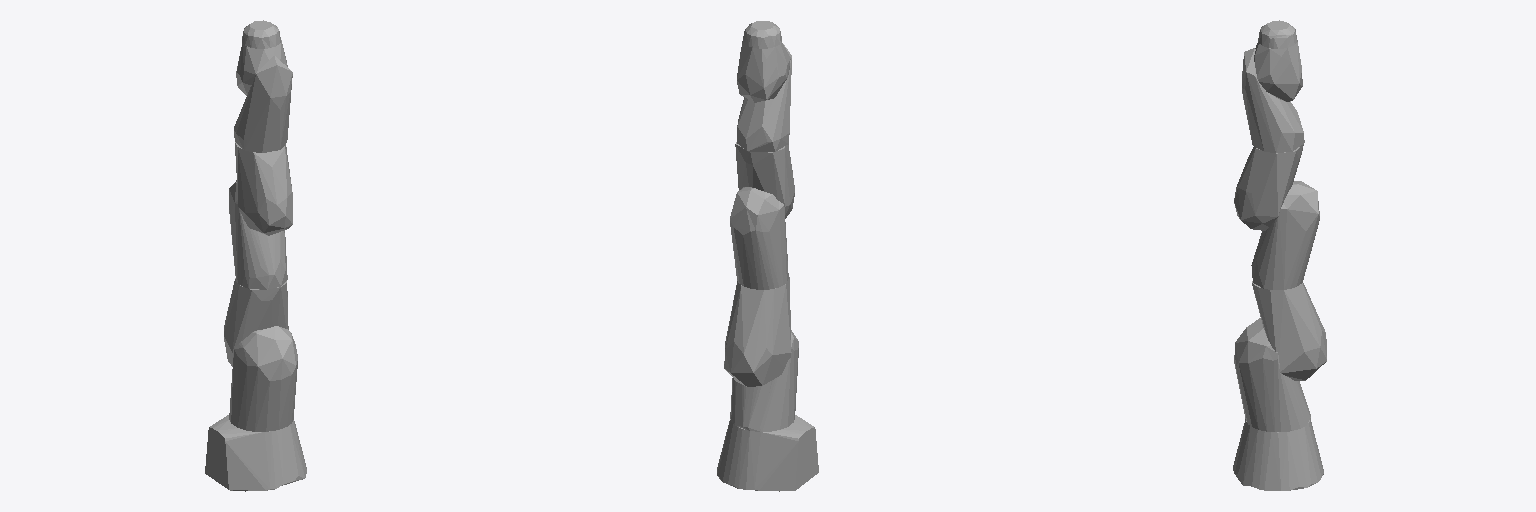
robot.urdf — iiwa:
<?xml version="1.0" encoding="utf-8"?>
<robot name="iiwa">
  <material name="Grey">
    <color rgba="0.7 0.7 0.7 1.0"/>
  </material>
  <link name="world"/>
  <joint name="world_to_iiwa" type="fixed">
    <origin rpy="0 0 0" xyz="0 0 0"/>
    <parent link="world"/>
    <child link="iiwa_link_0"/>
  </joint>
  <link name="iiwa_link_0">
    <inertial>
      <origin rpy="0 0 0" xyz="-0.1 0 0.07"/>
      <mass value="5"/>
      <inertia ixx="0.05" ixy="0" ixz="0" iyy="0.06" iyz="0" izz="0.03"/>
    </inertial>
    <visual>
      <origin rpy="0 0 0" xyz="0 0 0"/>
      <geometry>
        <mesh filename="package://robots_description/meshes/iiwa/visual/link_0.stl"/>
      </geometry>
      <material name="Grey"/>
    </visual>
    <collision>
      <origin rpy="0 0 0" xyz="0 0 0"/>
      <geometry>
        <mesh filename="package://robots_description/meshes/iiwa/visual/link_0.stl"/>
      </geometry>
      <material name="Grey"/>
    </collision>
  </link>
  <joint name="iiwa_joint_1" type="revolute">
    <parent link="iiwa_link_0"/>
    <child link="iiwa_link_1"/>
    <origin rpy="0 0 0" xyz="0 0 0.1575"/>
    <axis xyz="0 0 1"/>
    <limit effort="300" lower="-2.96705972839" upper="2.96705972839" velocity="1.4835298642"/>
    <dynamics damping="20"/>
  </joint>
  <link name="iiwa_link_1">
    <inertial>
      <origin rpy="0 0 0" xyz="0 -0.03 0.12"/>
      <mass value="4"/>
      <inertia ixx="0.1" ixy="0" ixz="0" iyy="0.09" iyz="0" izz="0.02"/>
    </inertial>
    <visual>
      <origin rpy="0 0 0" xyz="0 0 0"/>
      <geometry>
        <mesh filename="package://robots_description/meshes/iiwa/visual/link_1.stl"/>
      </geometry>
      <material name="Grey"/>
    </visual>
    <collision>
      <origin rpy="0 0 0" xyz="0 0 0"/>
      <geometry>
        <mesh filename="package://robots_description/meshes/iiwa/visual/link_1.stl"/>
      </geometry>
      <material name="Grey"/>
    </collision>
  </link>
  <joint name="iiwa_joint_2" type="revolute">
    <parent link="iiwa_link_1"/>
    <child link="iiwa_link_2"/>
    <origin rpy="1.5707963268   0 3.14159265359" xyz="0 0 0.2025"/>
    <axis xyz="0 0 1"/>
    <limit effort="300" lower="-2.09439510239" upper="2.09439510239" velocity="1.4835298642"/>
    <dynamics damping="20"/>
  </joint>
  <link name="iiwa_link_2">
    <inertial>
      <origin rpy="0 0 0" xyz="0.0003 0.059 0.042"/>
      <mass value="4"/>
      <inertia ixx="0.05" ixy="0" ixz="0" iyy="0.018" iyz="0" izz="0.044"/>
    </inertial>
    <visual>
      <origin rpy="0 0 0" xyz="0 0 0"/>
      <geometry>
        <mesh filename="package://robots_description/meshes/iiwa/visual/link_2.stl"/>
      </geometry>
      <material name="Grey"/>
    </visual>
    <collision>
      <origin rpy="0 0 0" xyz="0 0 0"/>
      <geometry>
        <mesh filename="package://robots_description/meshes/iiwa/visual/link_2.stl"/>
      </geometry>
      <material name="Grey"/>
    </collision>
  </link>
  <joint name="iiwa_joint_3" type="revolute">
    <parent link="iiwa_link_2"/>
    <child link="iiwa_link_3"/>
    <origin rpy="1.5707963268 0 3.14159265359" xyz="0 0.2045 0"/>
    <axis xyz="0 0 1"/>
    <limit effort="300" lower="-2.96705972839" upper="2.96705972839" velocity="1.74532925199"/>
    <dynamics damping="20"/>
  </joint>
  <link name="iiwa_link_3">
    <inertial>
      <origin rpy="0 0 0" xyz="0 0.03 0.13"/>
      <mass value="3"/>
      <inertia ixx="0.08" ixy="0" ixz="0" iyy="0.075" iyz="0" izz="0.01"/>
    </inertial>
    <visual>
      <origin rpy="0 0 0" xyz="0 0 0"/>
      <geometry>
        <mesh filename="package://robots_description/meshes/iiwa/visual/link_3.stl"/>
      </geometry>
      <material name="Grey"/>
    </visual>
    <collision>
      <origin rpy="0 0 0" xyz="0 0 0"/>
      <geometry>
        <mesh filename="package://robots_description/meshes/iiwa/visual/link_3.stl"/>
      </geometry>
      <material name="Grey"/>
    </collision>
  </link>
  <joint name="iiwa_joint_4" type="revolute">
    <parent link="iiwa_link_3"/>
    <child link="iiwa_link_4"/>
    <origin rpy="1.5707963268 0 0" xyz="0 0 0.2155"/>
    <axis xyz="0 0 1"/>
    <limit effort="300" lower="-2.09439510239" upper="2.09439510239" velocity="1.308996939"/>
    <dynamics damping="20"/>
  </joint>
  <link name="iiwa_link_4">
    <inertial>
      <origin rpy="0 0 0" xyz="0 0.067 0.034"/>
      <mass value="2.7"/>
      <inertia ixx="0.03" ixy="0" ixz="0" iyy="0.01" iyz="0" izz="0.029"/>
    </inertial>
    <visual>
      <origin rpy="0 0 0" xyz="0 0 0"/>
      <geometry>
        <mesh filename="package://robots_description/meshes/iiwa/visual/link_4.stl"/>
      </geometry>
      <material name="Grey"/>
    </visual>
    <collision>
      <origin rpy="0 0 0" xyz="0 0 0"/>
      <geometry>
        <mesh filename="package://robots_description/meshes/iiwa/visual/link_4.stl"/>
      </geometry>
      <material name="Grey"/>
    </collision>
  </link>
  <joint name="iiwa_joint_5" type="revolute">
    <parent link="iiwa_link_4"/>
    <child link="iiwa_link_5"/>
    <origin rpy="-1.5707963268 3.14159265359 0" xyz="0 0.1845 0"/>
    <axis xyz="0 0 1"/>
    <limit effort="300" lower="-2.96705972839" upper="2.96705972839" velocity="2.26892802759"/>
    <dynamics damping="20"/>
  </joint>
  <link name="iiwa_link_5">
    <inertial>
      <origin rpy="0 0 0" xyz="0.0001 0.021 0.076"/>
      <mass value="1.7"/>
      <inertia ixx="0.02" ixy="0" ixz="0" iyy="0.018" iyz="0" izz="0.005"/>
    </inertial>
    <visual>
      <origin rpy="0 0 0" xyz="0 0 0"/>
      <geometry>
        <mesh filename="package://robots_description/meshes/iiwa/visual/link_5.stl"/>
      </geometry>
      <material name="Grey"/>
    </visual>
    <collision>
      <origin rpy="0 0 0" xyz="0 0 0"/>
      <geometry>
        <mesh filename="package://robots_description/meshes/iiwa/visual/link_5.stl"/>
      </geometry>
      <material name="Grey"/>
    </collision>
  </link>
  <joint name="iiwa_joint_6" type="revolute">
    <parent link="iiwa_link_5"/>
    <child link="iiwa_link_6"/>
    <origin rpy="1.5707963268 0 0" xyz="0 0 0.2155"/>
    <axis xyz="0 0 1"/>
    <limit effort="300" lower="-2.09439510239" upper="2.09439510239" velocity="2.35619449019"/>
    <dynamics damping="20"/>
  </joint>
  <link name="iiwa_link_6">
    <inertial>
      <origin rpy="0 0 0" xyz="0 0.0006 0.0004"/>
      <mass value="1.8"/>
      <inertia ixx="0.005" ixy="0" ixz="0" iyy="0.0036" iyz="0" izz="0.0047"/>
    </inertial>
    <visual>
      <origin rpy="0 0 0" xyz="0 0 0"/>
      <geometry>
        <mesh filename="package://robots_description/meshes/iiwa/visual/link_6.stl"/>
      </geometry>
      <material name="Grey"/>
    </visual>
    <collision>
      <origin rpy="0 0 0" xyz="0 0 0"/>
      <geometry>
        <mesh filename="package://robots_description/meshes/iiwa/visual/link_6.stl"/>
      </geometry>
      <material name="Grey"/>
    </collision>
  </link>
  <joint name="iiwa_joint_7" type="revolute">
    <parent link="iiwa_link_6"/>
    <child link="iiwa_link_7"/>
    <origin rpy="-1.5707963268 3.14159265359 0" xyz="0 0.081 0"/>
    <axis xyz="0 0 1"/>
    <limit effort="300" lower="-3.05432619099" upper="3.05432619099" velocity="2.35619449019"/>
    <dynamics damping="20"/>
  </joint>
  <link name="iiwa_link_7">
    <inertial>
      <origin rpy="0 0 0" xyz="0 0 0.02"/>
      <mass value="0.3"/>
      <inertia ixx="0.001" ixy="0" ixz="0" iyy="0.001" iyz="0" izz="0.001"/>
    </inertial>
    <visual>
      <origin rpy="0 0 0" xyz="0 0 0"/>
      <geometry>
        <mesh filename="package://robots_description/meshes/iiwa/visual/link_7.stl"/>
      </geometry>
      <material name="Grey"/>
    </visual>
    <collision>
      <origin rpy="0 0 0" xyz="0 0 0"/>
      <geometry>
        <mesh filename="package://robots_description/meshes/iiwa/visual/link_7.stl"/>
      </geometry>
      <material name="Grey"/>
    </collision>
  </link>
  <joint name="iiwa_joint_ee" type="fixed">
    <parent link="iiwa_link_7"/>
    <child link="iiwa_link_ee"/>
    <origin rpy="0 0 0" xyz="0 0 0.045"/>
  </joint>
  <link name="iiwa_link_ee"/>
  <transmission name="iiwa_trans_1">
    <type>transmission_interface/SimpleTransmission</type>
    <joint name="iiwa_joint_1">
      <hardwareInterface>hardware_interface/EffortJointInterface</hardwareInterface>
    </joint>
    <actuator name="iiwa_motor_1">
      <hardwareInterface>hardware_interface/EffortJointInterface</hardwareInterface>
      <mechanicalReduction>1</mechanicalReduction>
    </actuator>
  </transmission>
  <transmission name="iiwa_trans_2">
    <type>transmission_interface/SimpleTransmission</type>
    <joint name="iiwa_joint_2">
      <hardwareInterface>hardware_interface/EffortJointInterface</hardwareInterface>
    </joint>
    <actuator name="iiwa_motor_2">
      <hardwareInterface>hardware_interface/EffortJointInterface</hardwareInterface>
      <mechanicalReduction>1</mechanicalReduction>
    </actuator>
  </transmission>
  <transmission name="iiwa_trans_3">
    <type>transmission_interface/SimpleTransmission</type>
    <joint name="iiwa_joint_3">
      <hardwareInterface>hardware_interface/EffortJointInterface</hardwareInterface>
    </joint>
    <actuator name="iiwa_motor_3">
      <hardwareInterface>hardware_interface/EffortJointInterface</hardwareInterface>
      <mechanicalReduction>1</mechanicalReduction>
    </actuator>
  </transmission>
  <transmission name="iiwa_trans_4">
    <type>transmission_interface/SimpleTransmission</type>
    <joint name="iiwa_joint_4">
      <hardwareInterface>hardware_interface/EffortJointInterface</hardwareInterface>
    </joint>
    <actuator name="iiwa_motor_4">
      <hardwareInterface>hardware_interface/EffortJointInterface</hardwareInterface>
      <mechanicalReduction>1</mechanicalReduction>
    </actuator>
  </transmission>
  <transmission name="iiwa_trans_5">
    <type>transmission_interface/SimpleTransmission</type>
    <joint name="iiwa_joint_5">
      <hardwareInterface>hardware_interface/EffortJointInterface</hardwareInterface>
    </joint>
    <actuator name="iiwa_motor_5">
      <hardwareInterface>hardware_interface/EffortJointInterface</hardwareInterface>
      <mechanicalReduction>1</mechanicalReduction>
    </actuator>
  </transmission>
  <transmission name="iiwa_trans_6">
    <type>transmission_interface/SimpleTransmission</type>
    <joint name="iiwa_joint_6">
      <hardwareInterface>hardware_interface/EffortJointInterface</hardwareInterface>
    </joint>
    <actuator name="iiwa_motor_6">
      <hardwareInterface>hardware_interface/EffortJointInterface</hardwareInterface>
      <mechanicalReduction>1</mechanicalReduction>
    </actuator>
  </transmission>
  <transmission name="iiwa_trans_7">
    <type>transmission_interface/SimpleTransmission</type>
    <joint name="iiwa_joint_7">
      <hardwareInterface>hardware_interface/EffortJointInterface</hardwareInterface>
    </joint>
    <actuator name="iiwa_motor_7">
      <hardwareInterface>hardware_interface/EffortJointInterface</hardwareInterface>
      <mechanicalReduction>1</mechanicalReduction>
    </actuator>
  </transmission>
  <gazebo reference="iiwa_link_0">
    <material>Gazebo/Grey</material>
    <mu1>0.2</mu1>
    <mu2>0.2</mu2>
  </gazebo>
  <gazebo reference="iiwa_link_1">
    <material>Gazebo/Grey</material>
    <mu1>0.2</mu1>
    <mu2>0.2</mu2>
  </gazebo>
  <gazebo reference="iiwa_link_2">
    <material>Gazebo/Grey</material>
    <mu1>0.2</mu1>
    <mu2>0.2</mu2>
  </gazebo>
  <gazebo reference="iiwa_link_3">
    <material>Gazebo/Grey</material>
    <mu1>0.2</mu1>
    <mu2>0.2</mu2>
  </gazebo>
  <gazebo reference="iiwa_link_4">
    <material>Gazebo/Grey</material>
    <mu1>0.2</mu1>
    <mu2>0.2</mu2>
  </gazebo>
  <gazebo reference="iiwa_link_5">
    <material>Gazebo/Grey</material>
    <mu1>0.2</mu1>
    <mu2>0.2</mu2>
  </gazebo>
  <gazebo reference="iiwa_link_6">
    <material>Gazebo/Grey</material>
    <mu1>0.2</mu1>
    <mu2>0.2</mu2>
  </gazebo>
  <gazebo reference="iiwa_link_7">
    <material>Gazebo/Grey</material>
    <mu1>0.2</mu1>
    <mu2>0.2</mu2>
  </gazebo>
</robot>

--- Facts derived from the render (not from the file) ---
Views: 3 orthographic renders of the robot side by side, from view 1: azimuth 30°, elevation 25°; view 2: azimuth 150°, elevation 25°; view 3: azimuth 270°, elevation 25°.
Robot: iiwa — 10 links, 9 joints (7 revolute, 2 fixed); root link world; default pose: all joints at 0.
Visible links, largest first — view 1: iiwa_link_1, iiwa_link_0, iiwa_link_4, iiwa_link_5, iiwa_link_3, iiwa_link_2, iiwa_link_6, iiwa_link_7; view 2: iiwa_link_0, iiwa_link_2, iiwa_link_3, iiwa_link_1, iiwa_link_5, iiwa_link_4, iiwa_link_6, iiwa_link_7; view 3: iiwa_link_1, iiwa_link_0, iiwa_link_3, iiwa_link_2, iiwa_link_4, iiwa_link_5, iiwa_link_6, iiwa_link_7.
Boxes of the visible links, x1=… form: iiwa_link_1: x1=229, y1=326, x2=297, y2=431; iiwa_link_0: x1=205, y1=415, x2=306, y2=491; iiwa_link_4: x1=235, y1=142, x2=292, y2=235; iiwa_link_5: x1=234, y1=56, x2=292, y2=152; iiwa_link_3: x1=229, y1=180, x2=287, y2=289; iiwa_link_2: x1=224, y1=278, x2=288, y2=366; iiwa_link_6: x1=236, y1=40, x2=287, y2=95; iiwa_link_7: x1=242, y1=20, x2=280, y2=48; iiwa_link_0: x1=717, y1=415, x2=818, y2=491; iiwa_link_2: x1=724, y1=277, x2=791, y2=386; iiwa_link_3: x1=730, y1=187, x2=788, y2=289; iiwa_link_1: x1=730, y1=330, x2=798, y2=431; iiwa_link_5: x1=737, y1=44, x2=791, y2=151; iiwa_link_4: x1=735, y1=142, x2=794, y2=218; iiwa_link_6: x1=737, y1=41, x2=790, y2=102; iiwa_link_7: x1=743, y1=21, x2=781, y2=48; iiwa_link_1: x1=1234, y1=318, x2=1310, y2=431; iiwa_link_0: x1=1233, y1=418, x2=1323, y2=490; iiwa_link_3: x1=1251, y1=181, x2=1319, y2=289; iiwa_link_2: x1=1252, y1=281, x2=1326, y2=380; iiwa_link_4: x1=1234, y1=144, x2=1303, y2=230; iiwa_link_5: x1=1242, y1=48, x2=1304, y2=152; iiwa_link_6: x1=1254, y1=42, x2=1302, y2=101; iiwa_link_7: x1=1258, y1=20, x2=1297, y2=48.
Size in the robot's own frame: 0.2578 by 0.2509 by 1.31 metres.
8 mesh visuals loaded from 8 distinct referenced files (8 binary STL).